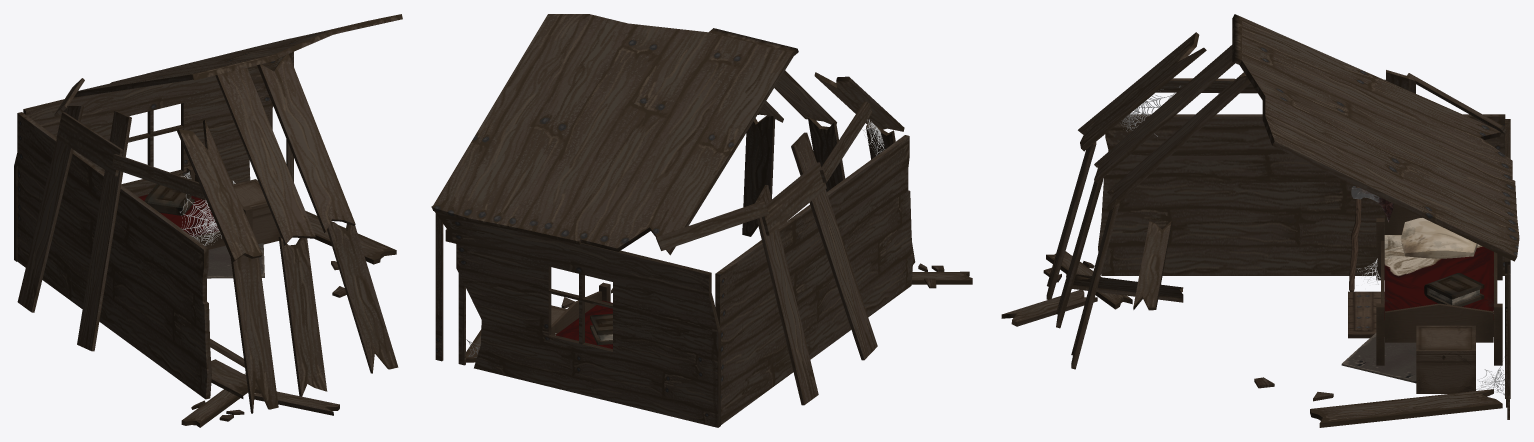
The model's file is Final_OldShack_Model.fbx.
The picture shows the model from 3 angles, left to right: view 1: azimuth 30°, elevation 25°; view 2: azimuth 150°, elevation 25°; view 3: azimuth 270°, elevation 25°; orthographic projection. The views are drawn at different scales.
Visible parts, largest first — view 1: BackWall, LeftRoofPanels, BackWallPlanksDeco, RightWall, LeftWallPlanks, LeftWallPlanks3, RightRoof, BedBase, Chest, FloorWood, FloorWood1, DecorativeBook (+3 smaller); view 2: RightRoof, RightWall, BackWall, BackWallPlanksDeco, LeftWallPlanks, LeftRoofPanels, BedBase, FloorWood1, LeftWallPlanks3, DecorativeBook; view 3: BackWall, RightRoof, BedBase, LeftRoofPanels, Chest, FloorWood, LeftWallPlanks, BedPillow, FloorMatt, LeftWallPlanks2, BackWallPlanksDeco, DecorativeBook (+7 smaller).
Part boxes in pixels (left/top/right/bottom): BackWall: left=17, top=112, right=211, bottom=399; LeftRoofPanels: left=177, top=54, right=355, bottom=261; BackWallPlanksDeco: left=17, top=78, right=205, bottom=351; RightWall: left=14, top=52, right=293, bottom=261; LeftWallPlanks: left=211, top=221, right=398, bottom=398; LeftWallPlanks3: left=230, top=255, right=278, bottom=413; RightRoof: left=74, top=14, right=402, bottom=97; BedBase: left=138, top=166, right=252, bottom=249; Chest: left=233, top=179, right=280, bottom=244; FloorWood: left=305, top=211, right=396, bottom=297; FloorWood1: left=181, top=373, right=248, bottom=427; DecorativeBook: left=144, top=184, right=194, bottom=215; RightRoof: left=432, top=14, right=798, bottom=255; RightWall: left=431, top=206, right=720, bottom=427; BackWall: left=715, top=135, right=913, bottom=424; BackWallPlanksDeco: left=656, top=101, right=877, bottom=405; LeftWallPlanks: left=742, top=115, right=845, bottom=236; LeftRoofPanels: left=757, top=70, right=904, bottom=131; BedBase: left=551, top=282, right=612, bottom=349; FloorWood1: left=911, top=263, right=972, bottom=288; LeftWallPlanks3: left=866, top=125, right=915, bottom=264; DecorativeBook: left=590, top=313, right=612, bottom=345; BackWall: left=1098, top=114, right=1505, bottom=275; RightRoof: left=1232, top=14, right=1519, bottom=261; BedBase: left=1376, top=204, right=1502, bottom=365; LeftRoofPanels: left=1078, top=32, right=1250, bottom=210; Chest: left=1416, top=325, right=1475, bottom=393; FloorWood: left=1254, top=377, right=1502, bottom=427; LeftWallPlanks: left=1056, top=177, right=1183, bottom=369; BedPillow: left=1400, top=218, right=1477, bottom=258; FloorMatt: left=1341, top=333, right=1416, bottom=383; LeftWallPlanks2: left=1133, top=220, right=1172, bottom=310; BackWallPlanksDeco: left=1156, top=70, right=1507, bottom=134; DecorativeBook: left=1424, top=273, right=1484, bottom=306.
Bounding box in the file's own units: 677 × 536 × 846.
Materials: 5 (5 with a texture image).
